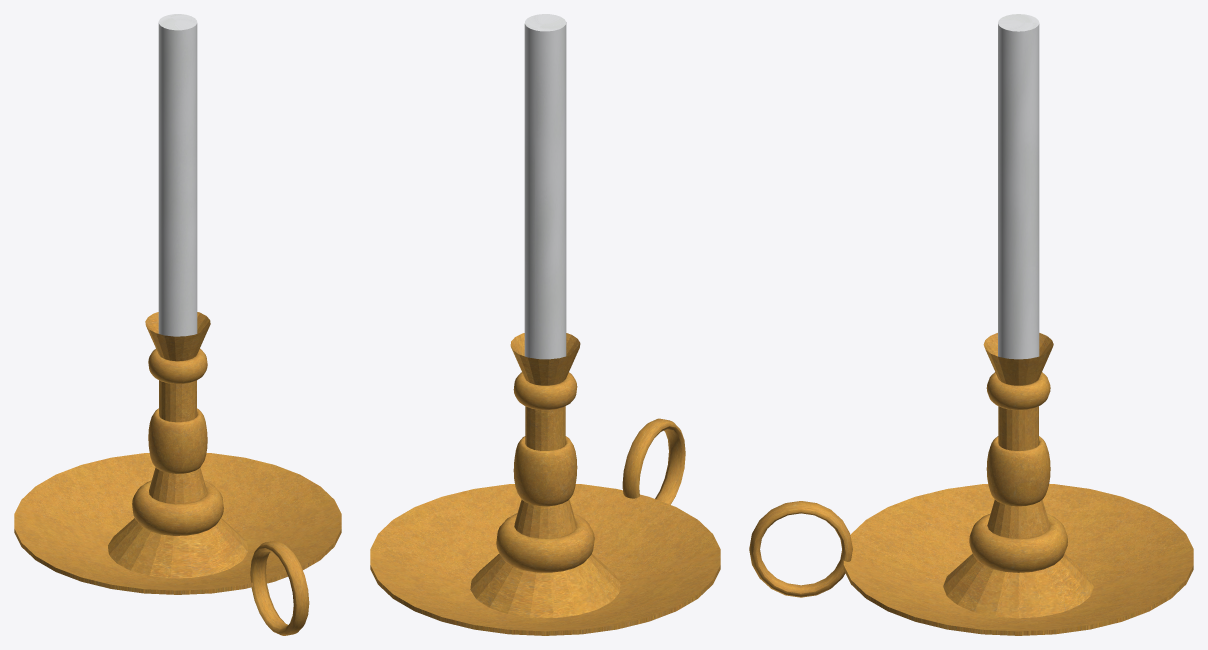
Rendered from Candle.FBX.
3 views of the same model, side by side, from view 1: azimuth 30°, elevation 25°; view 2: azimuth 150°, elevation 25°; view 3: azimuth 270°, elevation 25° (orthographic). The views are drawn at different scales.
Visible parts, largest first — view 1: pCylinder1, pCylinder4, Object001, pCylinder3, pTorus4; view 2: pCylinder1, pCylinder4, Object001, pCylinder3, pTorus4; view 3: pCylinder1, pCylinder4, Object001, pCylinder3, pTorus4.
Part boxes in pixels (<box>): pCylinder1: <box>14,453,341,594</box>; pCylinder4: <box>158,14,197,336</box>; Object001: <box>108,312,247,578</box>; pCylinder3: <box>132,348,223,535</box>; pTorus4: <box>250,540,309,635</box>; pCylinder1: <box>370,484,720,635</box>; pCylinder4: <box>524,14,566,359</box>; Object001: <box>470,333,620,617</box>; pCylinder3: <box>496,372,594,572</box>; pTorus4: <box>622,418,685,504</box>; pCylinder1: <box>843,484,1193,635</box>; pCylinder4: <box>998,14,1039,359</box>; Object001: <box>943,333,1093,618</box>; pCylinder3: <box>969,372,1067,572</box>; pTorus4: <box>749,501,852,597</box>.
Size of the model in its own units: 2.55 by 3.22 by 4.59.
Materials: 2 (2 with a texture image).
